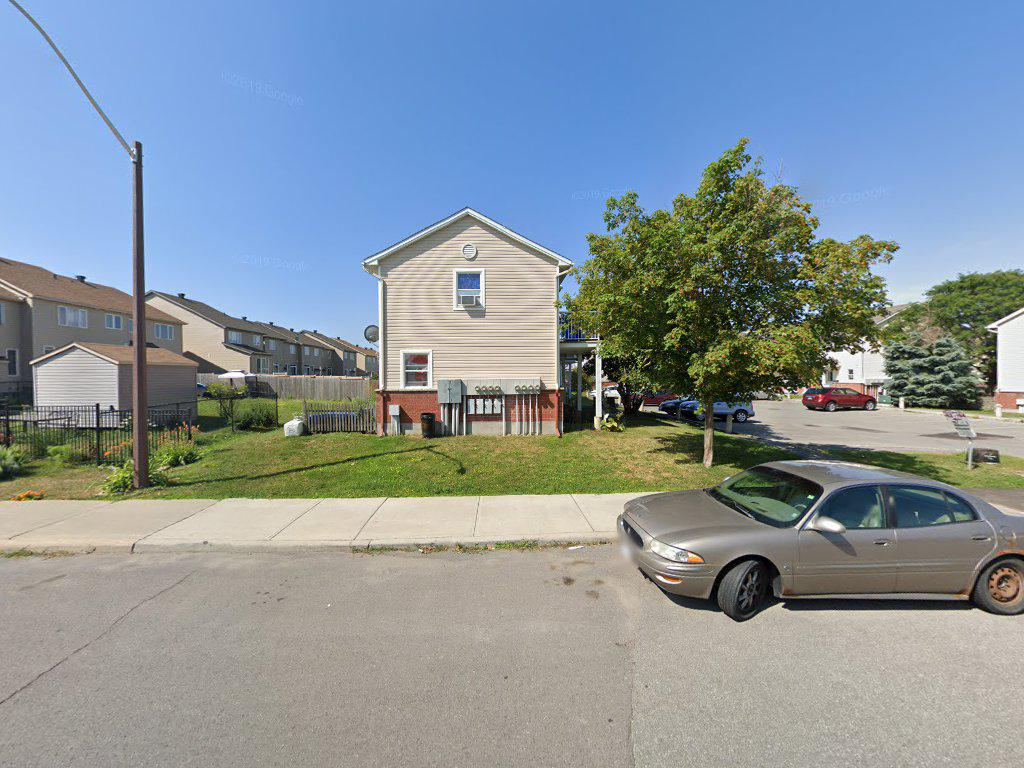trunk: (696, 386, 720, 476)
